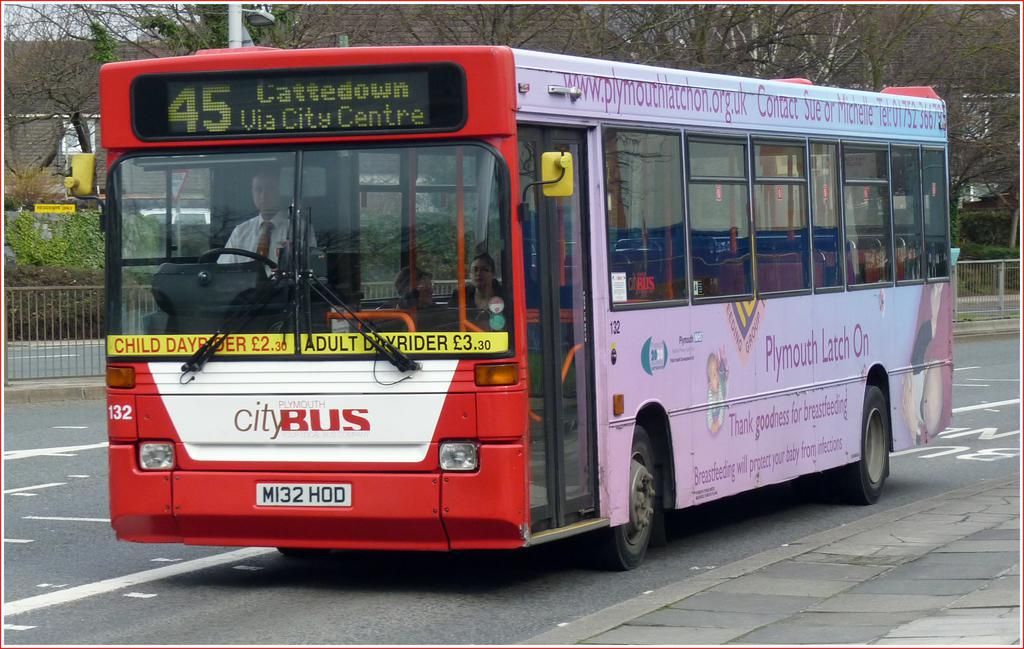License_Plate: (254, 484, 352, 508)
